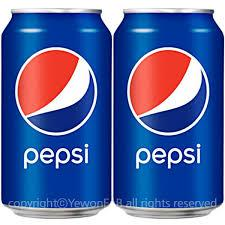can: (0, 5, 224, 225)
